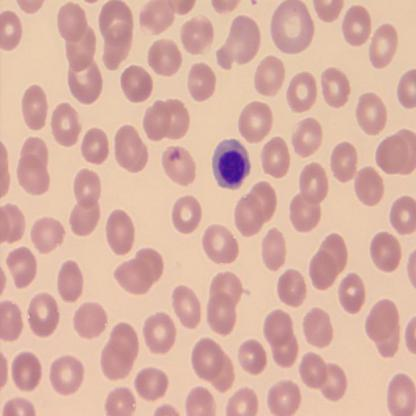NRC: (210, 136, 253, 192)
